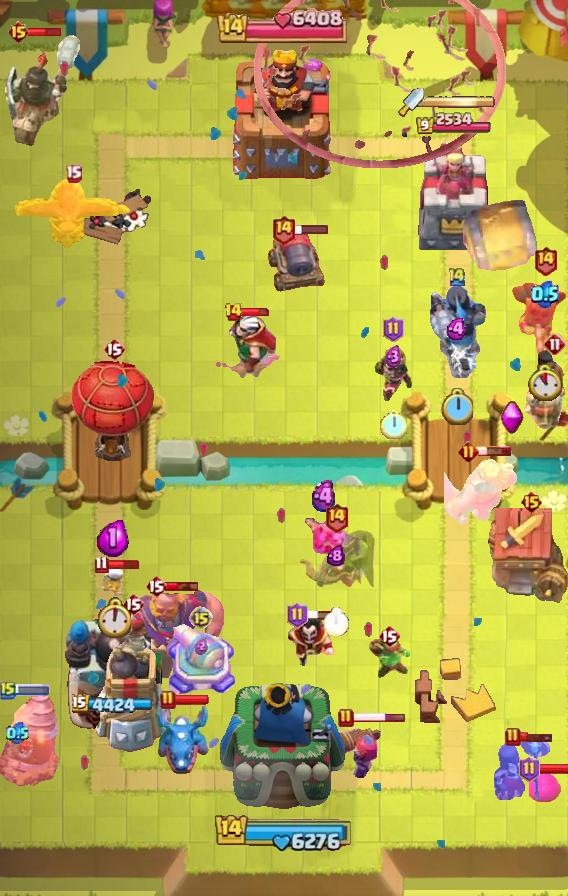bar: (412, 140, 494, 256)
barbarian-hut: (294, 526, 378, 598)
bomber-evolution: (371, 347, 415, 401)
cannon-cart: (72, 359, 156, 461)
clock: (214, 812, 354, 852), (217, 9, 351, 43)
dirt: (458, 194, 542, 278)
electro-spirit: (97, 518, 129, 557), (309, 479, 340, 512), (531, 280, 559, 308), (6, 722, 29, 745), (446, 318, 469, 340), (385, 345, 403, 369), (327, 546, 345, 567), (194, 637, 208, 655)
elite-barbarian: (522, 349, 568, 429)
elixir: (96, 597, 131, 638), (528, 363, 562, 400), (441, 387, 473, 425), (381, 409, 407, 439), (323, 607, 348, 636)
emote: (352, 712, 406, 723), (28, 26, 64, 38), (293, 223, 329, 235), (476, 445, 512, 457), (164, 580, 200, 592), (305, 609, 341, 621), (14, 684, 50, 696), (174, 694, 210, 706), (518, 731, 554, 743), (106, 558, 140, 569), (537, 763, 567, 775), (240, 307, 272, 317)
giant-snowball: (365, 637, 413, 681)
goblin-barrel: (508, 278, 568, 356)
goblin-hut: (445, 456, 520, 527)
graveyard: (153, 700, 211, 776)
heal-spirit: (100, 566, 126, 598)
inferno-dragon: (0, 32, 84, 148), (427, 282, 487, 378)
king-tower: (219, 678, 349, 826), (229, 43, 339, 181)
king-tower-bar: (424, 95, 496, 109)
lightning: (109, 588, 227, 678)
lumberjack: (285, 616, 335, 668)
magic-archer: (0, 695, 60, 787)
mega-minion: (322, 723, 390, 779)
miner: (529, 772, 561, 802)
mother-witch: (15, 175, 131, 251)
rascal-boy: (490, 735, 554, 807)
royal-delivery: (301, 511, 347, 557)
royal-giant-evolution: (266, 225, 328, 295)
royal-recruit: (164, 620, 241, 702)
selected: (71, 694, 156, 716), (416, 112, 493, 136)
skeleton-barrel: (254, 0, 506, 168)
skeleton-king: (211, 312, 285, 382)
skeleton-king-skill: (500, 401, 524, 435)
sparky: (482, 507, 568, 605)
text: (534, 245, 559, 276), (323, 503, 348, 533), (272, 214, 296, 245), (543, 332, 567, 356), (189, 606, 213, 630), (383, 316, 405, 342), (6, 20, 29, 44), (521, 490, 544, 514), (288, 602, 309, 628), (520, 756, 541, 782), (103, 337, 125, 361), (145, 574, 167, 598), (122, 592, 144, 616), (378, 624, 400, 648), (458, 441, 479, 462), (447, 266, 467, 287), (225, 302, 244, 322), (66, 164, 83, 183), (0, 680, 16, 700), (160, 690, 176, 710), (338, 708, 354, 728), (505, 727, 521, 747), (94, 554, 109, 573)
tower-bar: (64, 601, 164, 731)
zappy: (90, 620, 177, 756)
